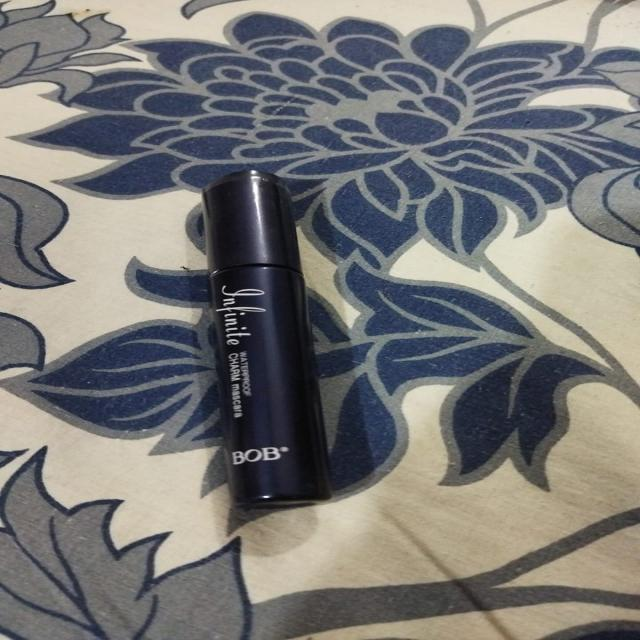mascara: (172, 155, 388, 522)
